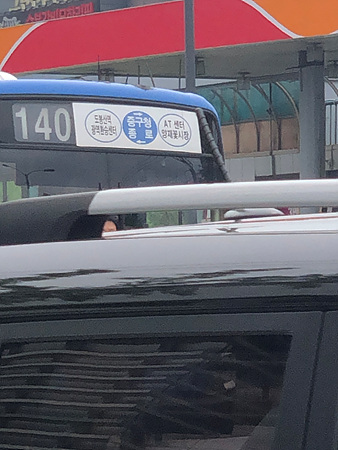bnum: (12, 104, 72, 142)
